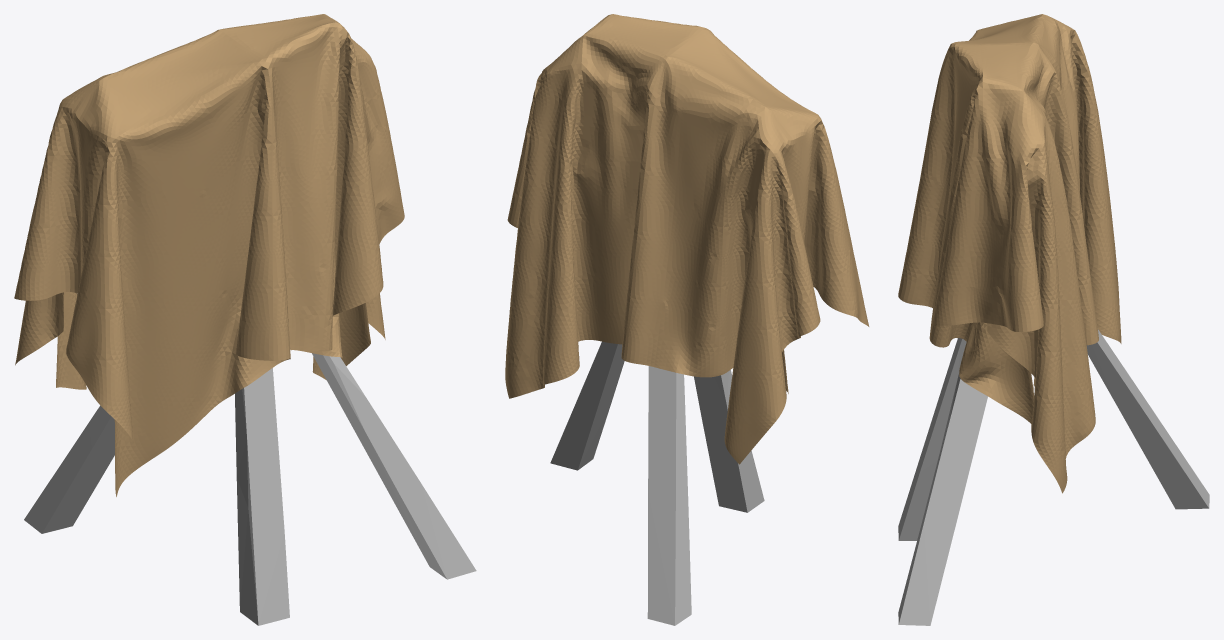
The model's file is level_3.glb.
3 views of the same model, side by side, from view 1: azimuth 30°, elevation 25°; view 2: azimuth 150°, elevation 25°; view 3: azimuth 270°, elevation 25° (orthographic). The views are drawn at different scales.
Parts seen in each view (by area): view 1: world, object.obj; view 2: world, object.obj; view 3: world, object.obj.
Boxes of the visible parts, bbox=[...] form: world: bbox=[14, 14, 404, 496]; object.obj: bbox=[24, 353, 476, 625]; world: bbox=[505, 14, 869, 464]; object.obj: bbox=[550, 341, 764, 625]; world: bbox=[898, 14, 1121, 493]; object.obj: bbox=[898, 329, 1209, 625].
Bounding box in the file's own units: 0.2911 × 0.4072 × 0.2275.
